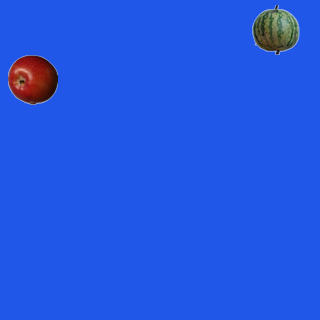Apple Braeburn: (7, 54, 57, 104)
Watermelon: (250, 4, 300, 54)
